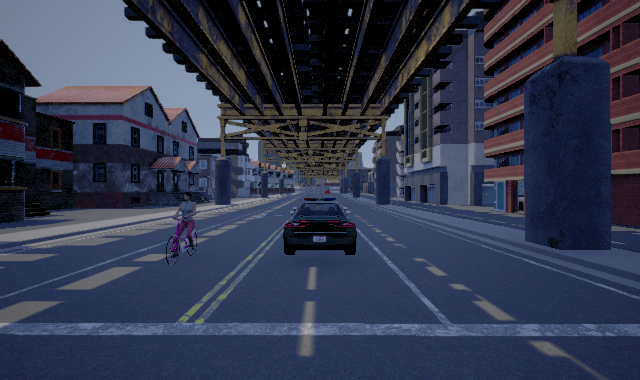bike: (166, 193, 206, 265)
vehicle: (283, 198, 357, 255)
